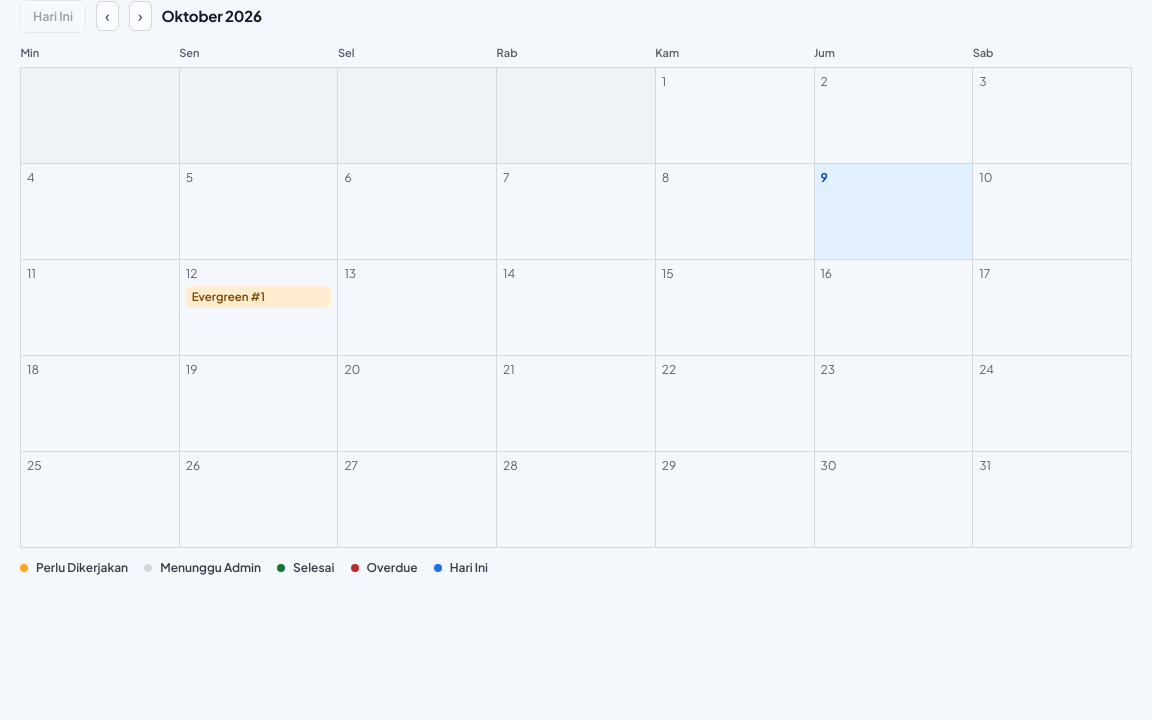
Test: MyTaskBoard as a calendar › opens the content detail panel from a chip, as the creator
The width and height of the screenshot is (1152, 720).
Click the button with aria-label "Evg_1_RanggaPratama_12102026 · Scheduled". click: coordinates (259, 297)
box: [186, 286, 331, 308]
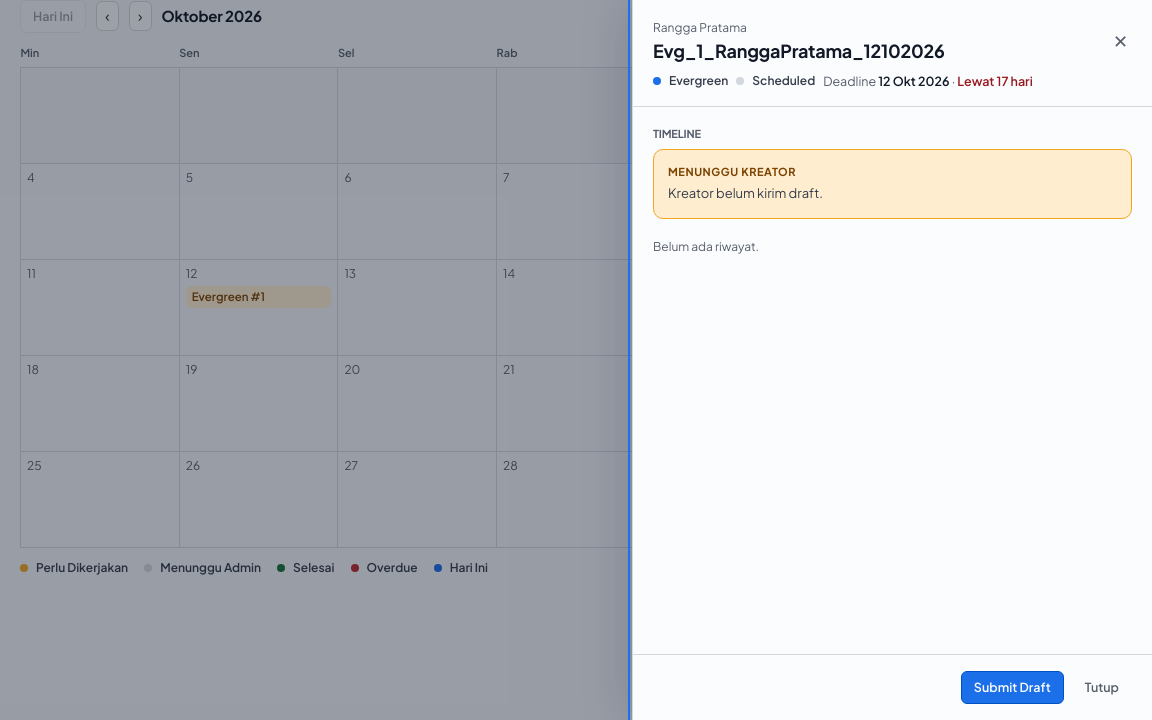
Check: the dialog is shown, box [632, 0, 1151, 719]
